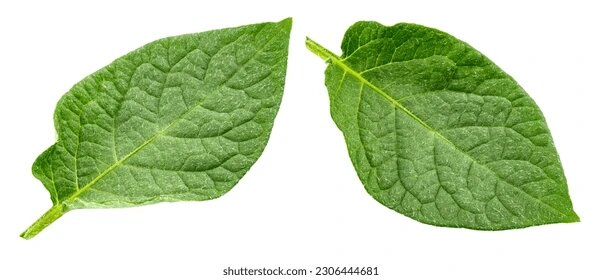potato_leaf: (20, 16, 295, 242), (304, 18, 583, 233)
